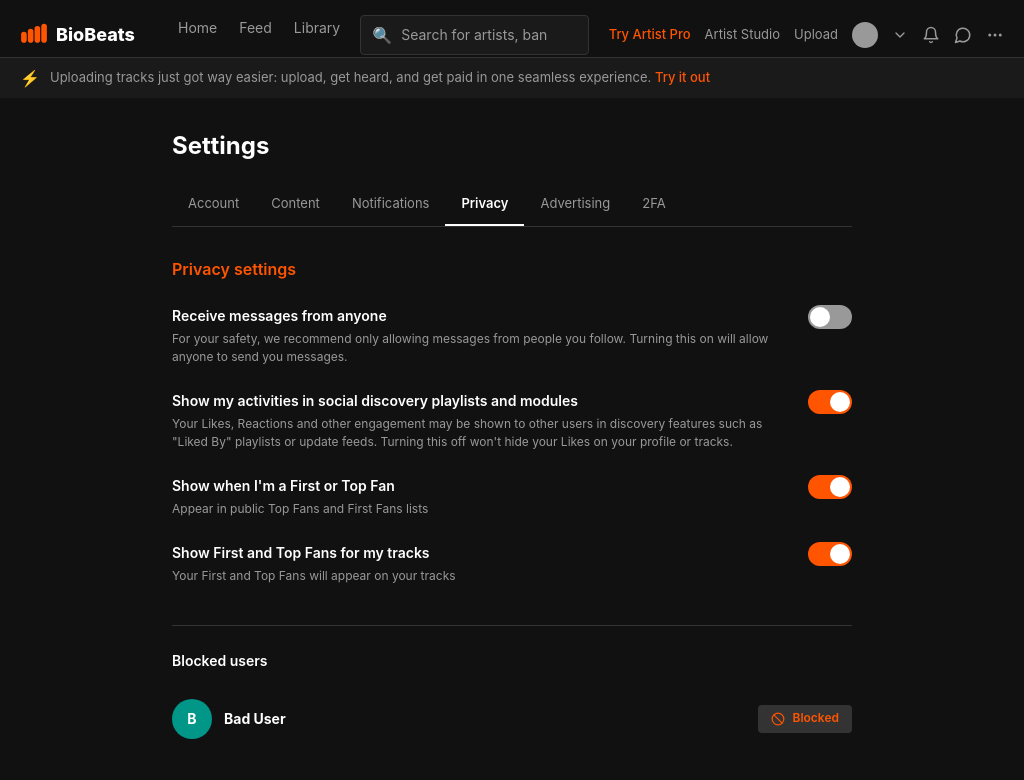
Test: Settings Page › unblock button removes user
Click the button with test id "settings-unblock-button". click: coordinates (805, 718)
box: top-left (758, 704), bottom-right (852, 732)
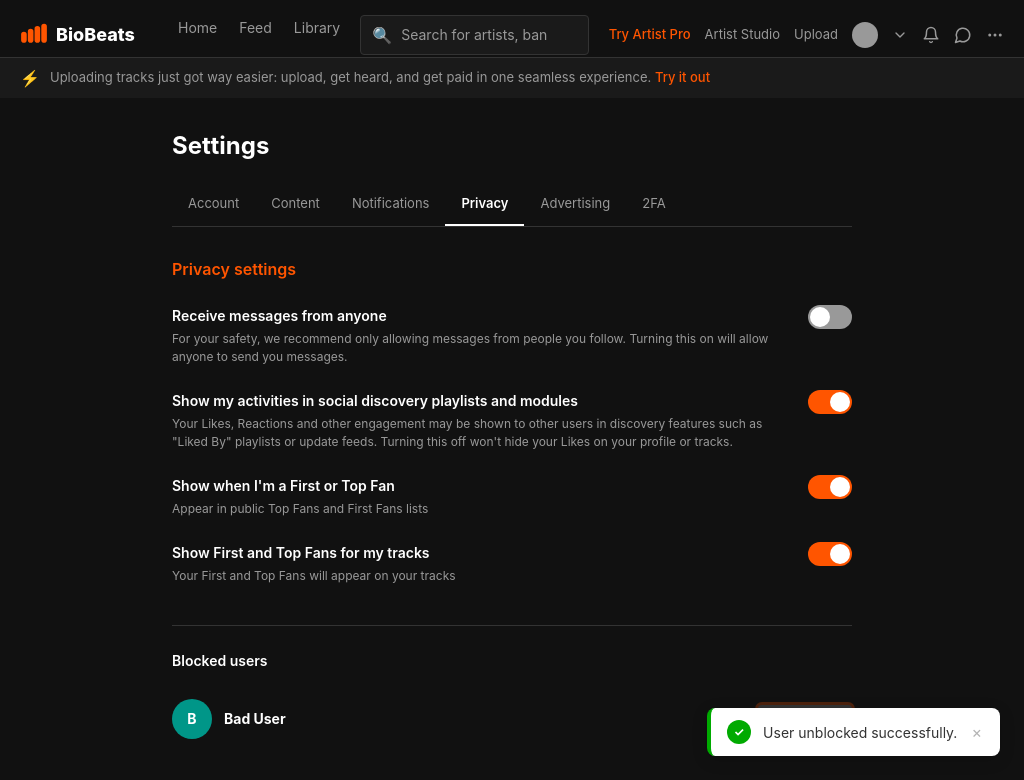
Now the text "User unblocked successfully." is shown, box top-left (763, 722), bottom-right (957, 742)
